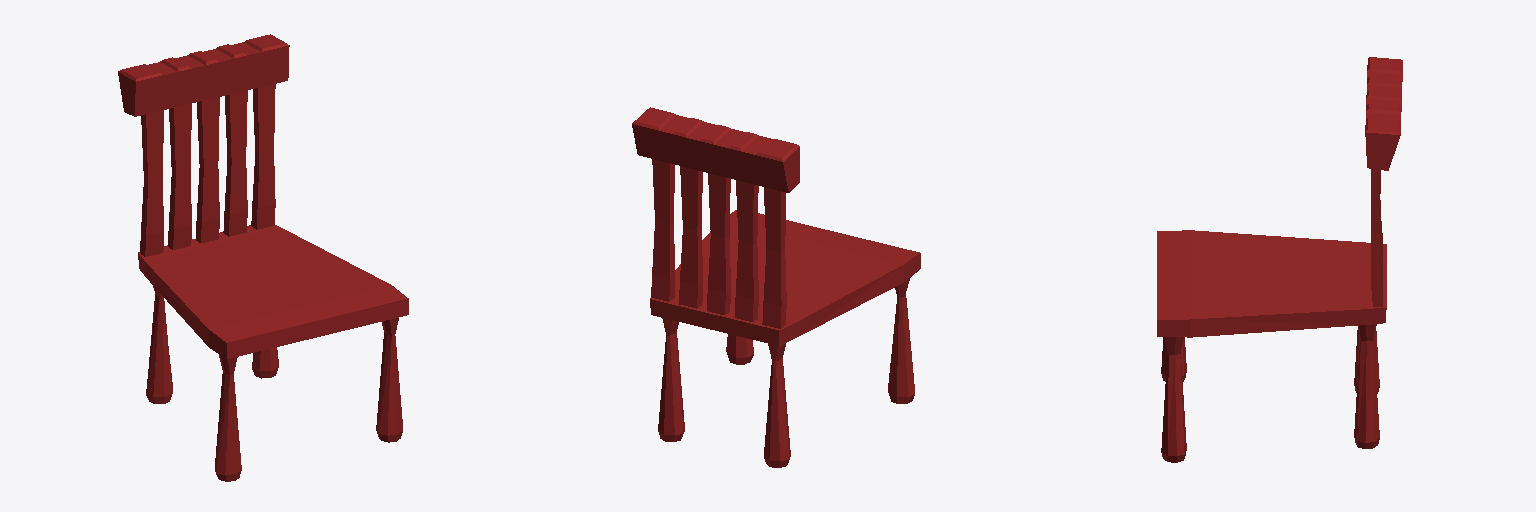
The model's file is chairtexture.obj.
3 renders of one model, left to right at view 1: azimuth 30°, elevation 25°; view 2: azimuth 150°, elevation 25°; view 3: azimuth 270°, elevation 25°, orthographic.
Parts seen in each view (by area): view 1: seat group, group back back1 back2 back3 back4, group head, group leg1 leg2 leg3 leg; view 2: group back back1 back2 back3 back4, seat group, group head, group leg1 leg2 leg3 leg; view 3: seat group, group leg1 leg2 leg3 leg, group head, group back back1 back2 back3 back4.
Boxes of the visible parts, x1,y1,x2,y2 form: seat group: [138, 225, 408, 358]; group back back1 back2 back3 back4: [140, 84, 275, 256]; group head: [118, 34, 289, 116]; group leg1 leg2 leg3 leg: [146, 286, 402, 481]; group back back1 back2 back3 back4: [651, 159, 786, 328]; seat group: [650, 210, 920, 345]; group head: [632, 107, 799, 192]; group leg1 leg2 leg3 leg: [658, 277, 914, 467]; seat group: [1157, 230, 1386, 337]; group leg1 leg2 leg3 leg: [1161, 324, 1379, 462]; group head: [1365, 57, 1402, 170]; group back back1 back2 back3 back4: [1371, 169, 1382, 306].
Size of the model in its own units: 102 by 170 by 117.